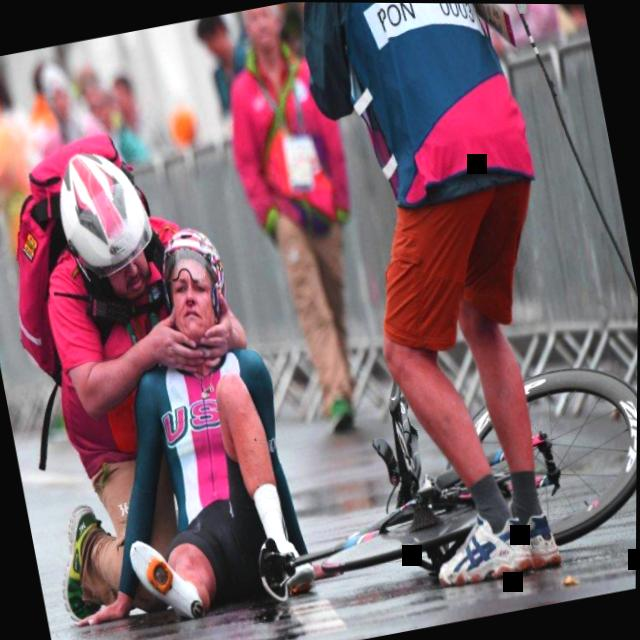Fall-Detected: (5, 189, 348, 640)
